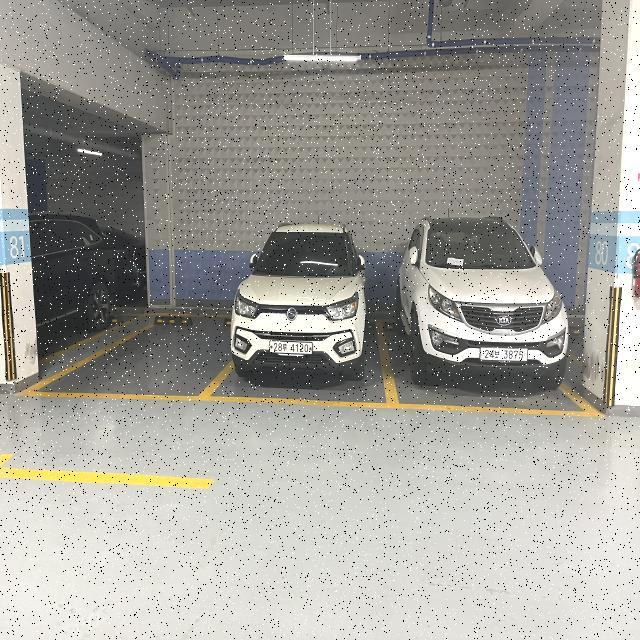empty: (52, 314, 234, 403)
occupied: (397, 208, 596, 414), (225, 212, 395, 404)
